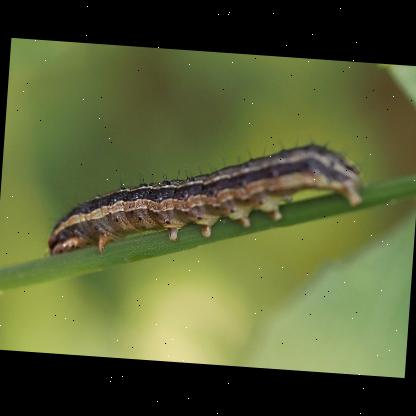Fall Armyworm Larvae: (43, 114, 373, 280)
